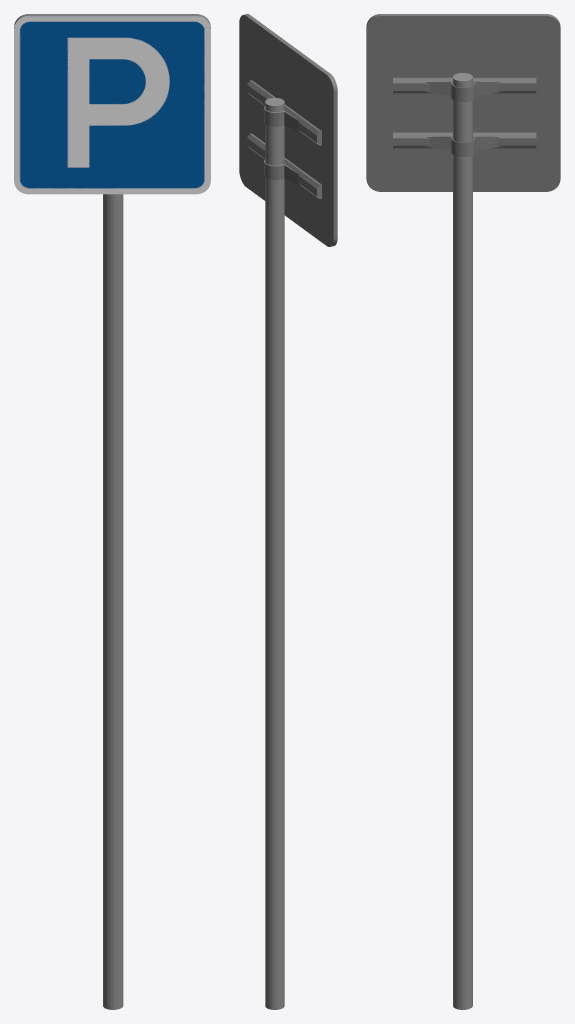
3 views of the same model, side by side, from view 1: azimuth 90°, elevation 25°; view 2: azimuth 210°, elevation 25°; view 3: azimuth 270°, elevation 25° (orthographic). The views are drawn at different scales.
Visible parts, largest first — view 1: 001, Prop; view 2: Prop, 001; view 3: 001, Prop.
Part boxes in pixels (left/top/right/bottom): 001: left=14, top=14, right=210, bottom=194; Prop: left=103, top=194, right=123, bottom=1009; Prop: left=247, top=80, right=321, bottom=1009; 001: left=239, top=14, right=337, bottom=246; 001: left=366, top=14, right=560, bottom=191; Prop: left=393, top=73, right=536, bottom=1009.
Bounding box in the file's own units: 6.76 × 249 × 44.59.
